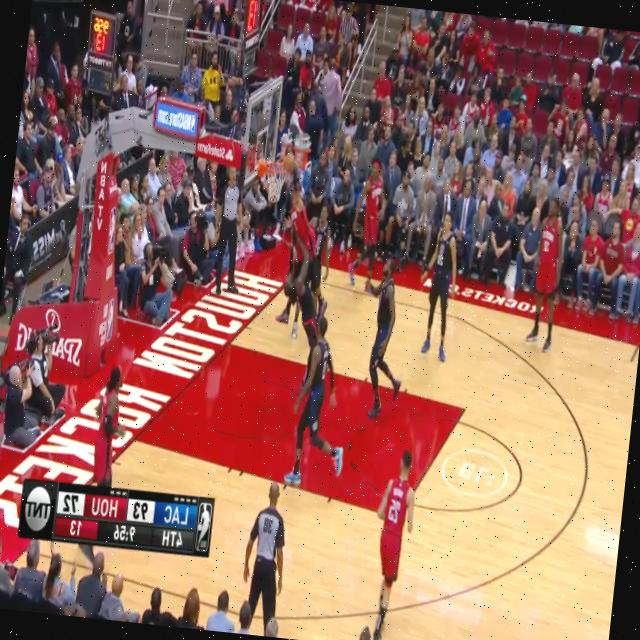Foul: (254, 180, 305, 332)
